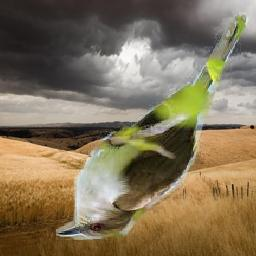Cuckoo: (56, 12, 250, 240)
